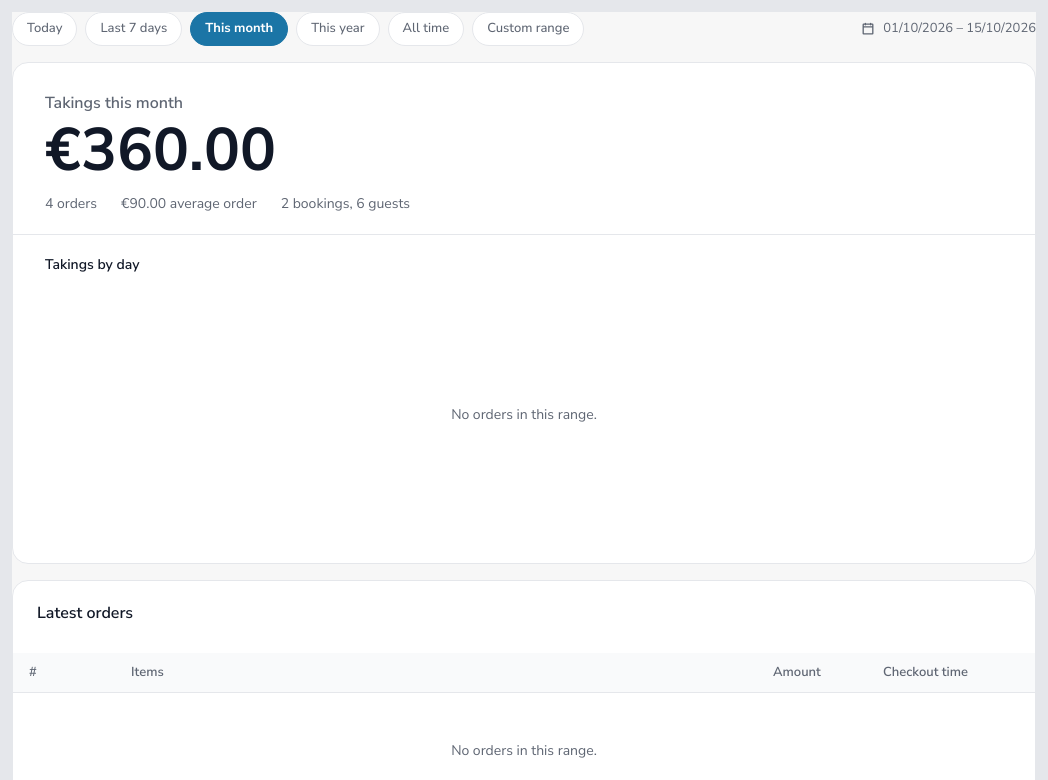
DashboardPanel › the heading follows the chosen range
This screenshot has width=1048, height=780.
Click the button "Today": (45, 29) [12,12,77,46]
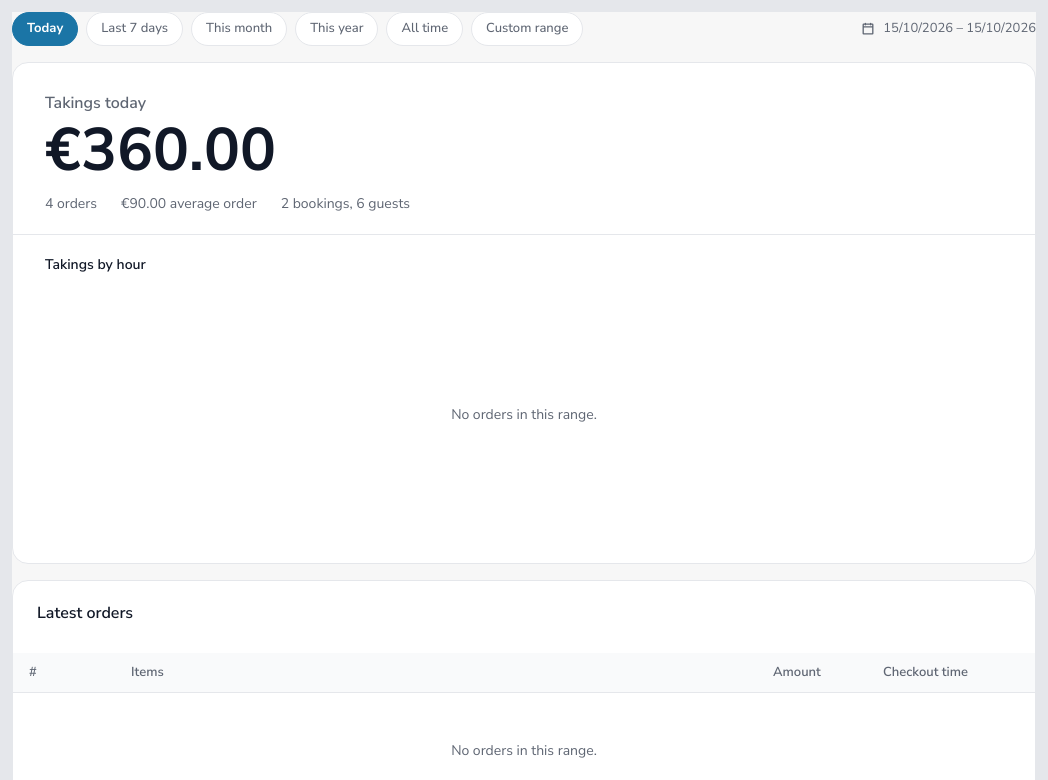
Check: the heading "Takings today" is shown, box [45,92,146,114]
